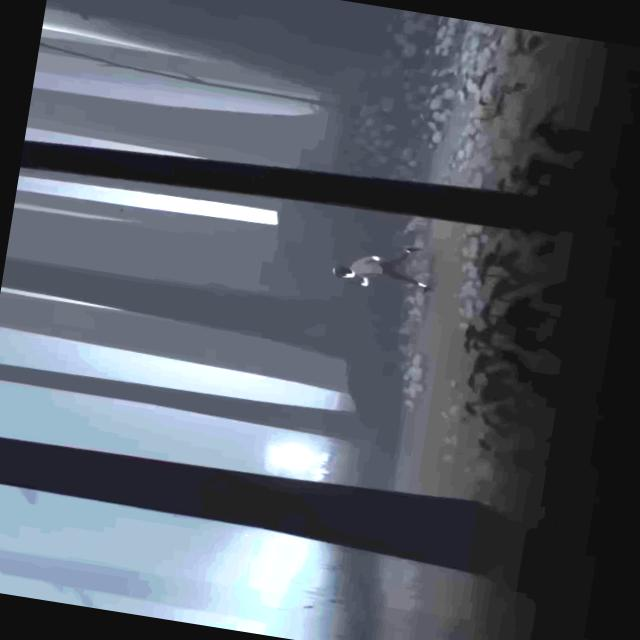boy: (331, 235, 430, 292)
